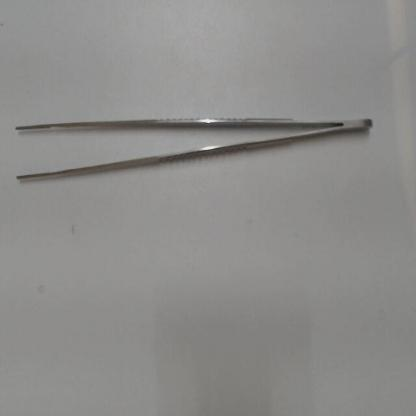DeBakey Dissector: (7, 88, 394, 191)
